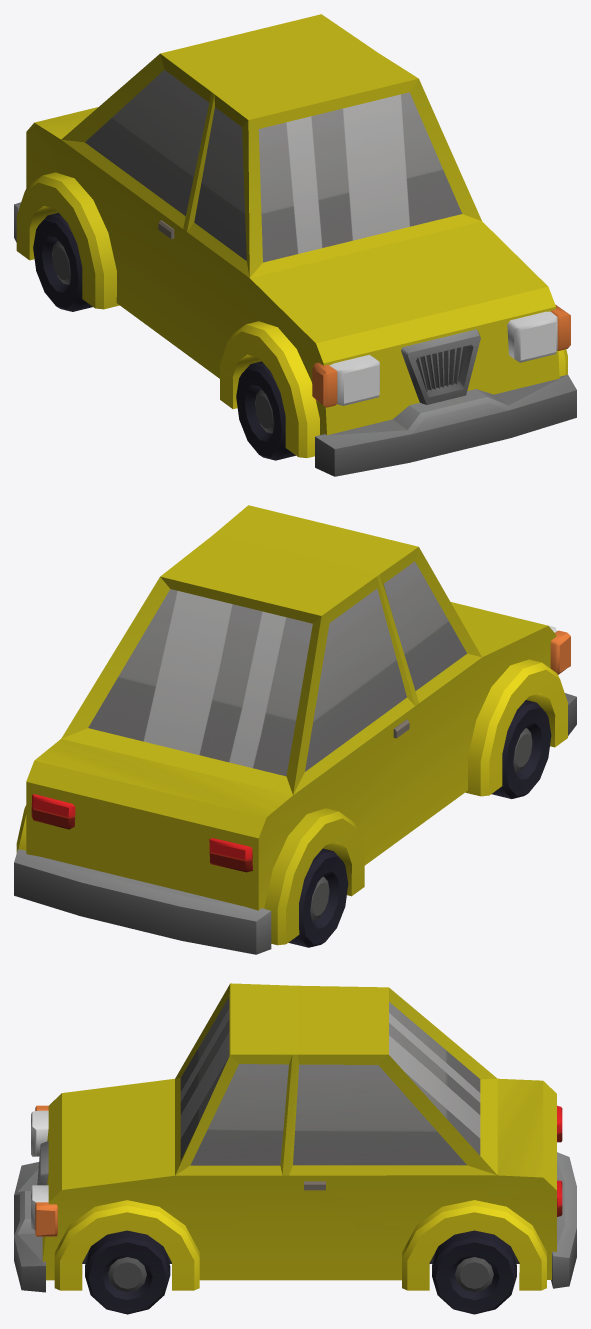
The model's file is Car_4_9.fbx.
The picture shows the model from 3 angles, top to bottom: view 1: azimuth 30°, elevation 25°; view 2: azimuth 150°, elevation 25°; view 3: azimuth 270°, elevation 25°; orthographic projection. The views are drawn at different scales.
Visible parts, largest first — view 1: Car_4_9, BWhel_FR, BWhel_BR; view 2: Car_4_9, BWhel_BR, BWhel_FR; view 3: Car_4_9, BWhel_FL, BWhel_BL.
Boxes of the visible parts, x1,y1,x2,y2 form: Car_4_9: [14, 14, 576, 476]; BWhel_FR: [236, 361, 295, 460]; BWhel_BR: [33, 212, 92, 311]; Car_4_9: [14, 505, 576, 954]; BWhel_BR: [288, 848, 348, 947]; BWhel_FR: [491, 700, 551, 798]; Car_4_9: [14, 983, 576, 1292]; BWhel_FL: [85, 1230, 170, 1314]; BWhel_BL: [432, 1230, 516, 1314].
Size of the model in its own units: 1.09 by 1.09 by 2.3.
